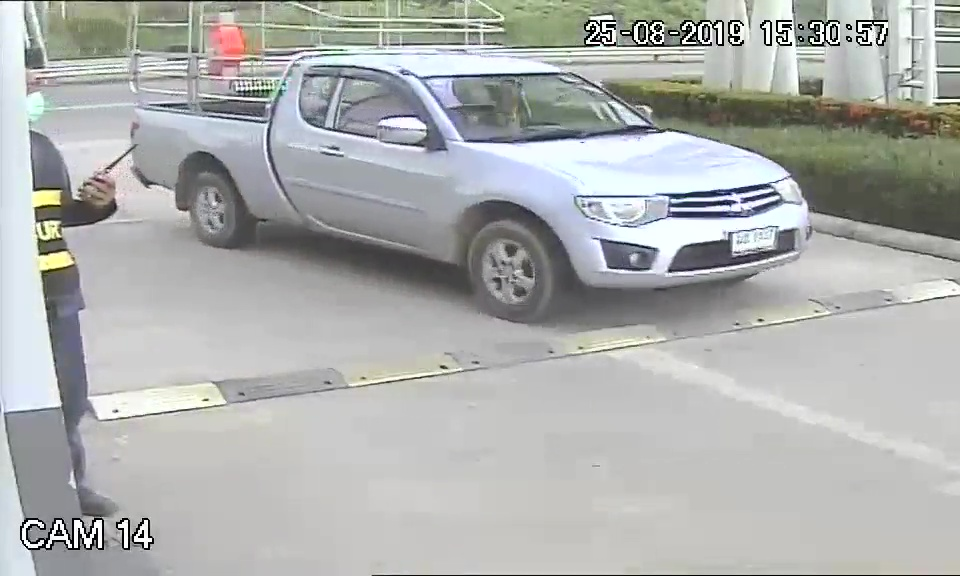pickup: (126, 45, 822, 320)
